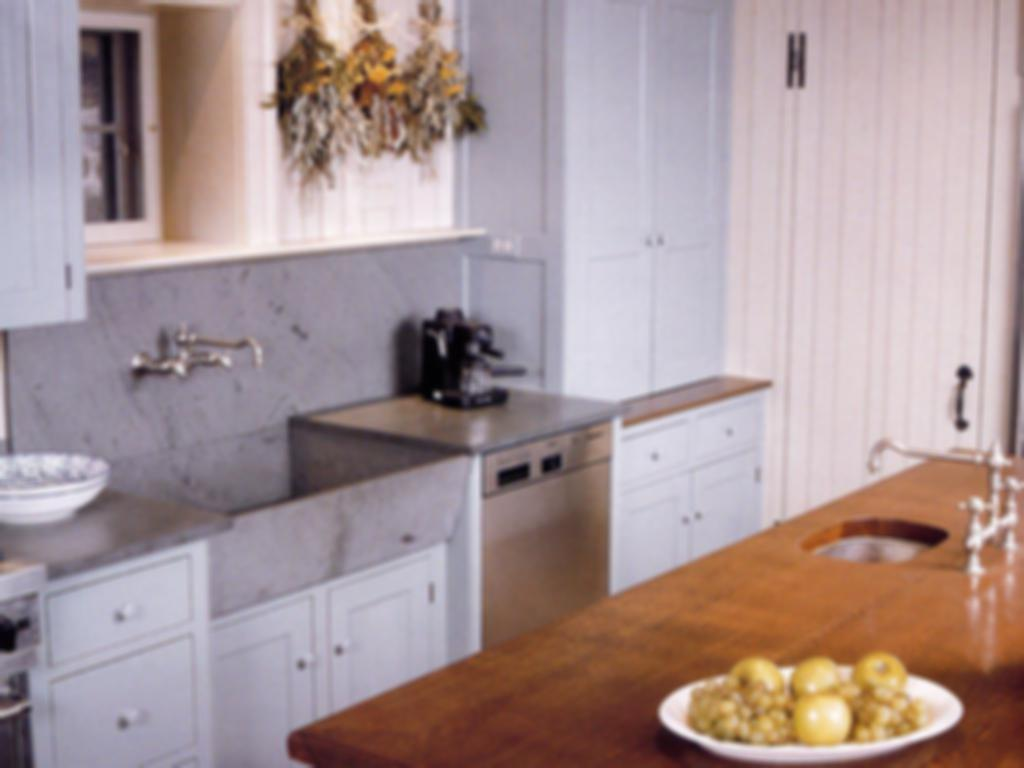Armario: (565, 5, 730, 396)
Electrodomestico: (487, 413, 609, 648)
Lavaplatos: (104, 328, 453, 549), (784, 432, 1012, 588)
